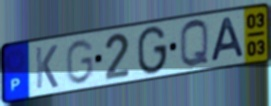2: (104, 31, 134, 83)
A: (209, 15, 247, 64)
G: (136, 24, 169, 76), (64, 38, 95, 87)
K: (34, 43, 60, 91)
Q: (178, 18, 211, 70)
